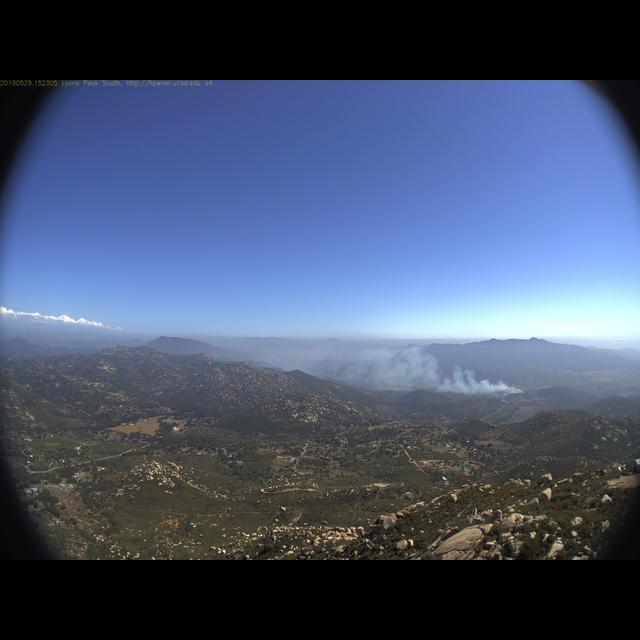Smoke: (303, 332, 523, 398)
